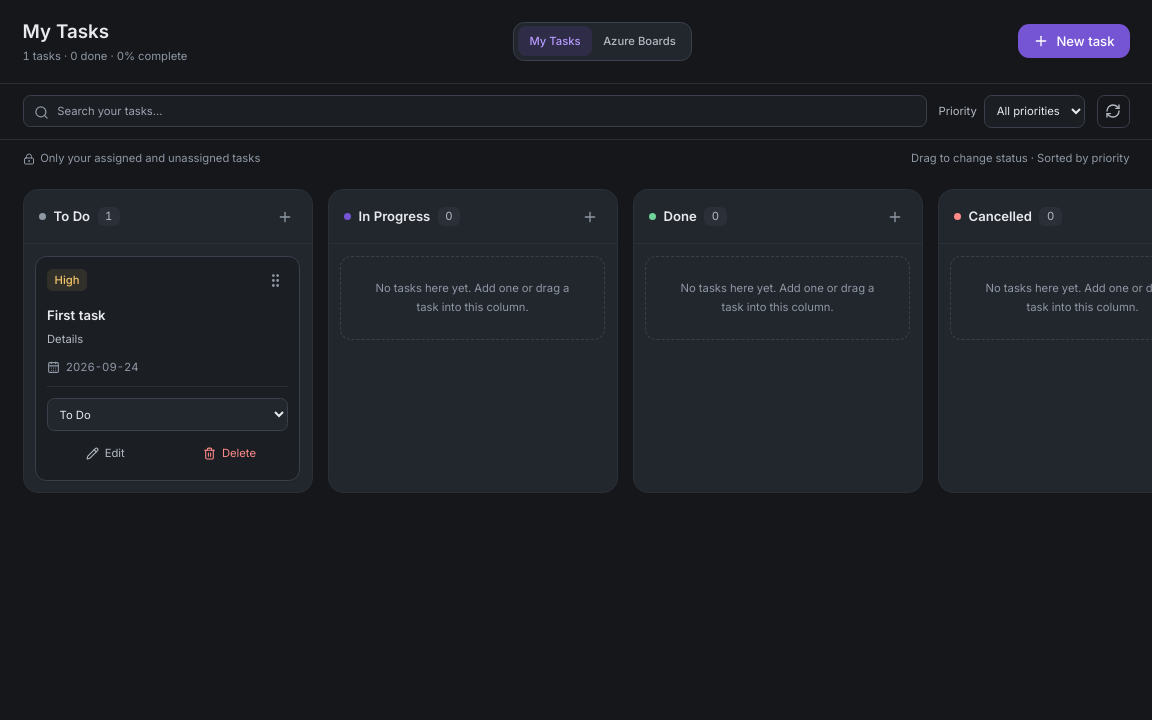
Test: requires confirmation, keeps failed delete open, and removes after success
Click the button with aria-label "Delete First task" at (230, 454), box [171,439,288,469]
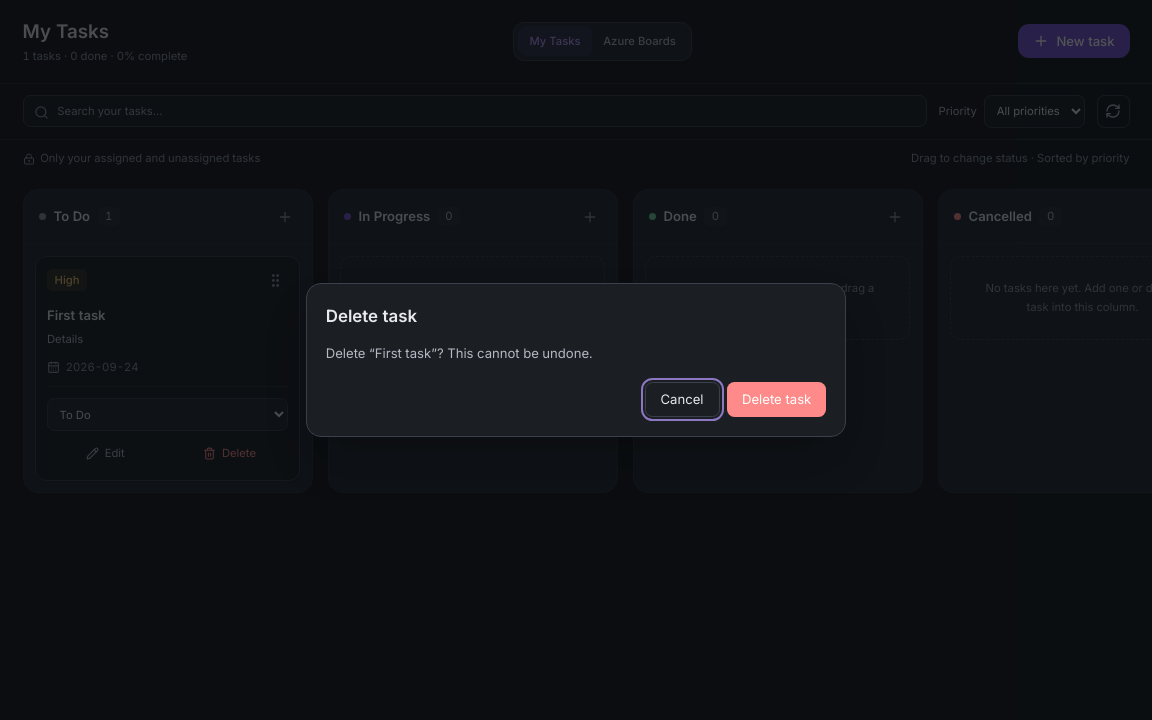
Click the button "Cancel" at (682, 399), box [644,382,720,417]
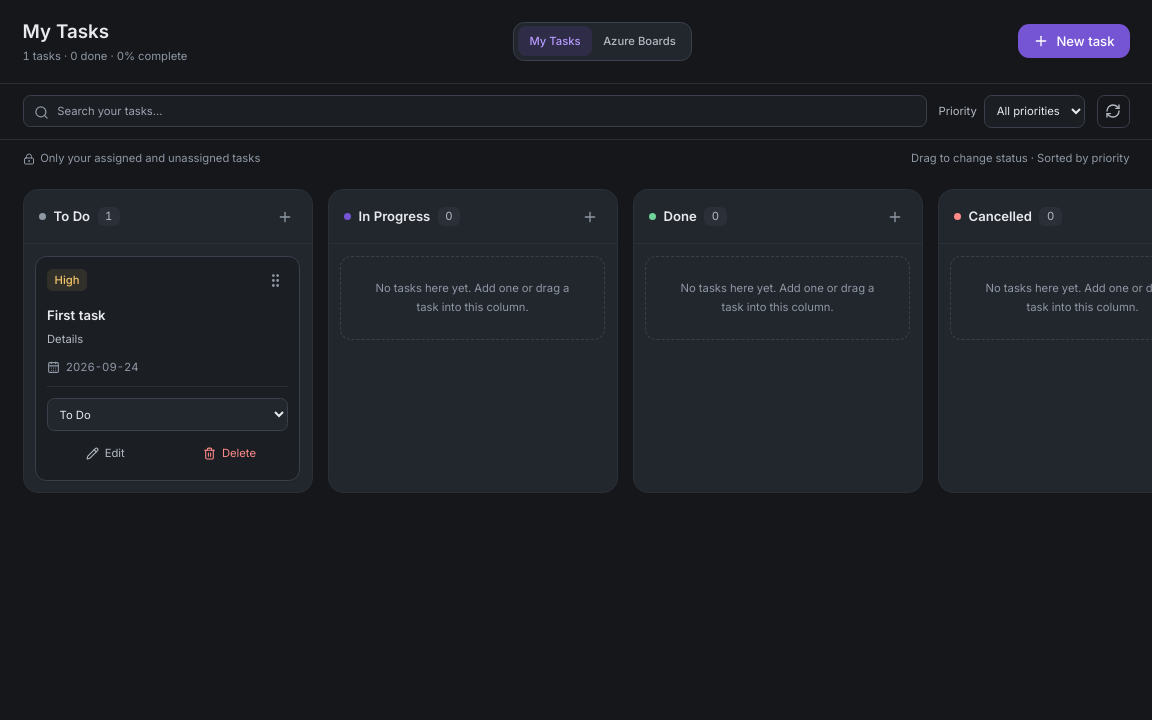
Result: the dialog is gone
Click the button with aria-label "Delete First task" at (230, 454), box [171,439,288,469]
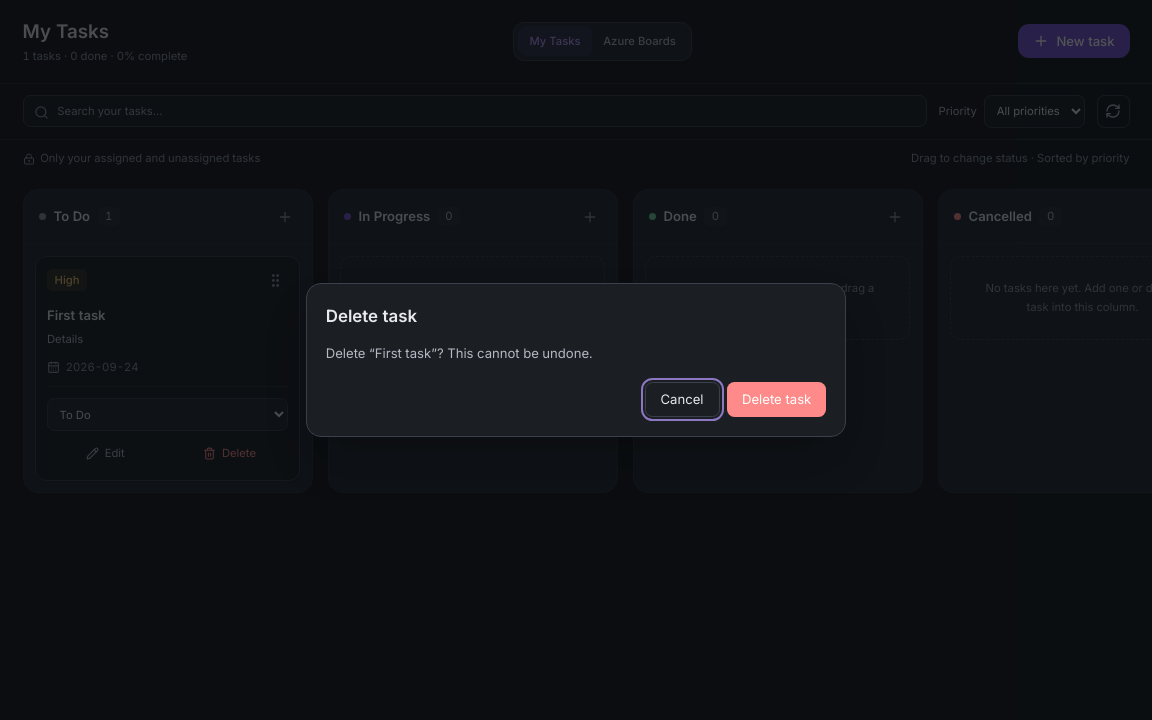
Click the button "Delete task" at (777, 399), box [727,382,826,417]
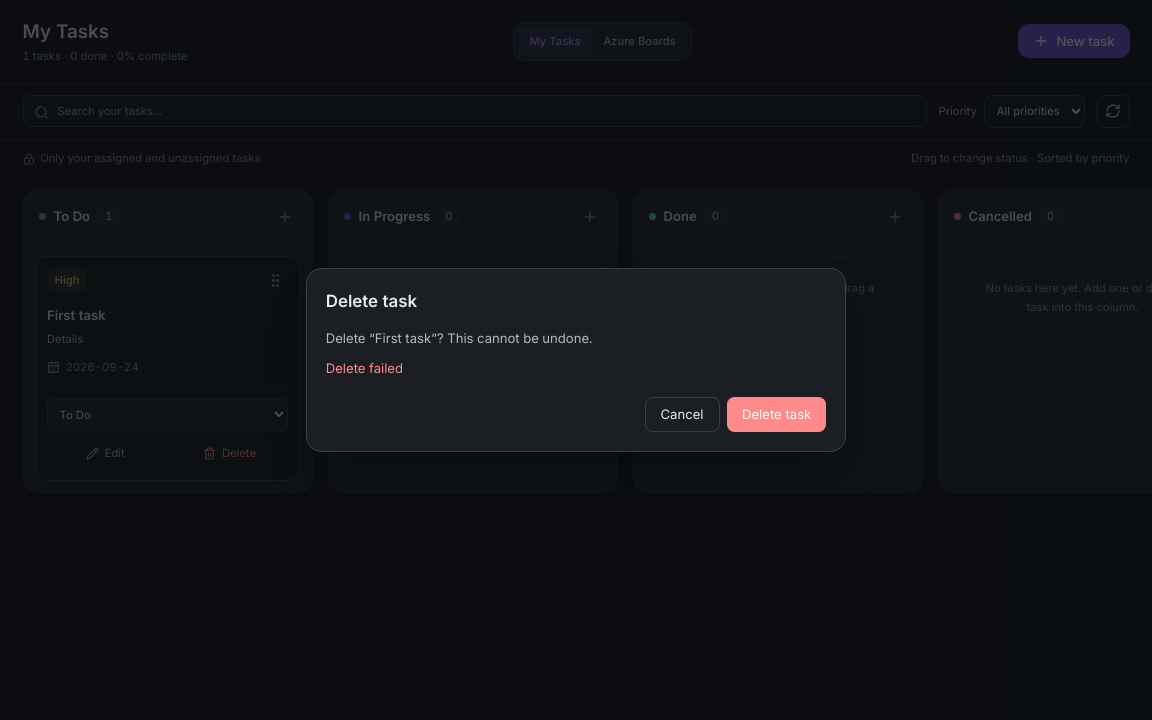
Result: the message "Delete failed" is shown at [326,360,403,376]
Click the button "Delete task" at (777, 414), box [727,396,826,432]
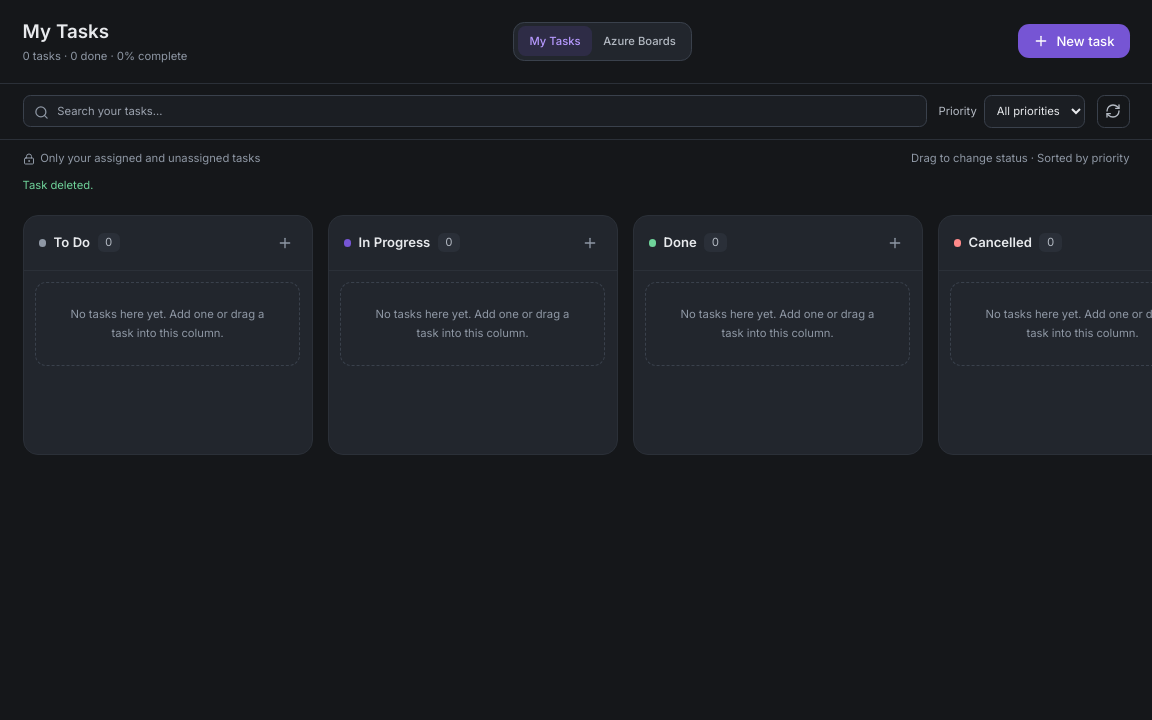
Result: the dialog is gone
